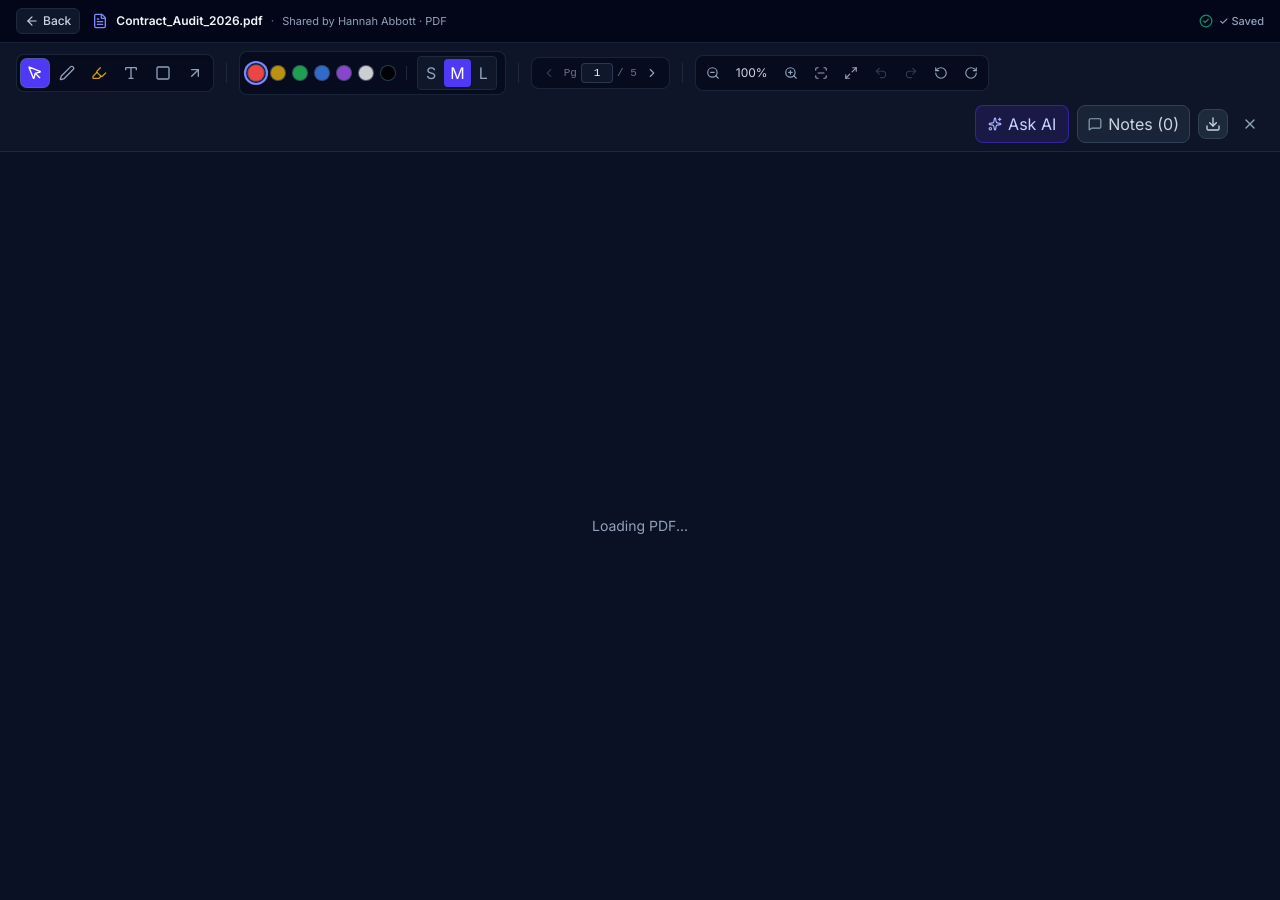
Test case: DocumentPreviewModal › opens Notes sidebar with loaded annotations
Click the button titled "Document Notes & Annotations" at {"x": 1134, "y": 124}, box [1077,105,1190,143]
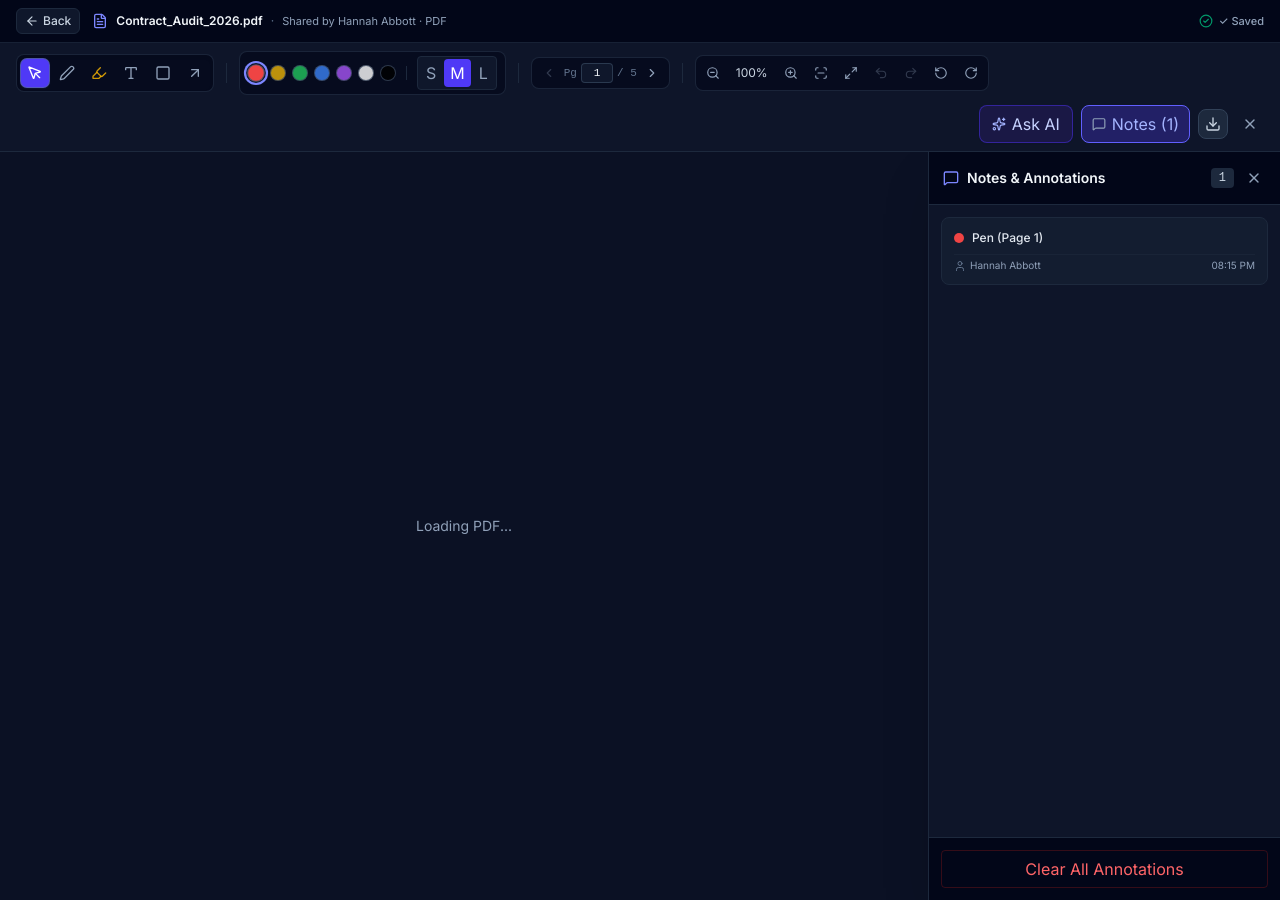
expect the heading "Notes & Annotations" is shown: met, box [967,168,1106,188]
expect the text "pen (Page 1)" is shown: met, box [972,230,1043,246]
